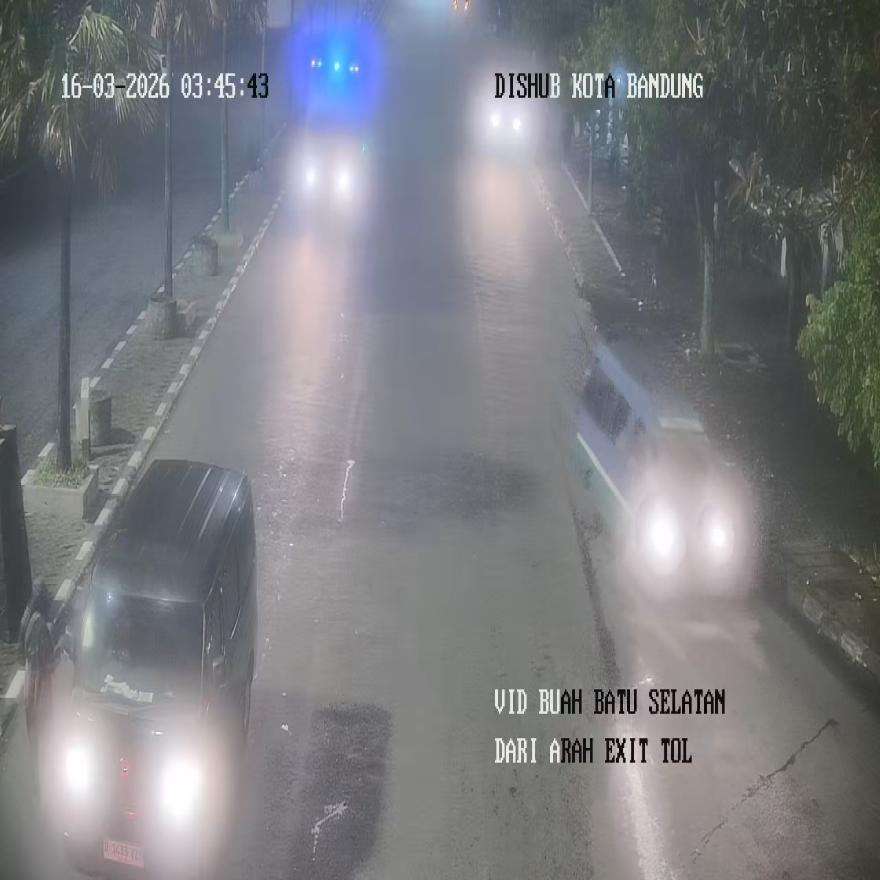Mobil: (20, 459, 256, 876), (562, 330, 748, 601)
